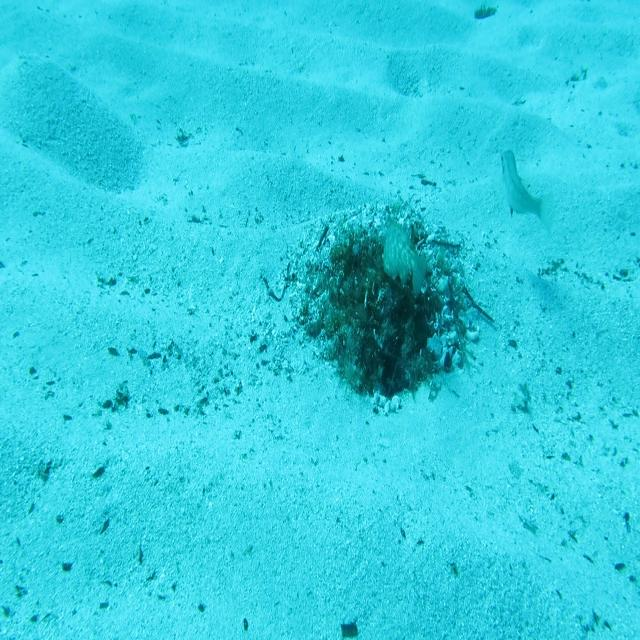NIP_CORE: (378, 215, 429, 300)
core_nest: (355, 248, 398, 286)
female: (500, 143, 559, 240)
nest: (281, 189, 487, 425)
vegetation: (474, 1, 498, 23)
